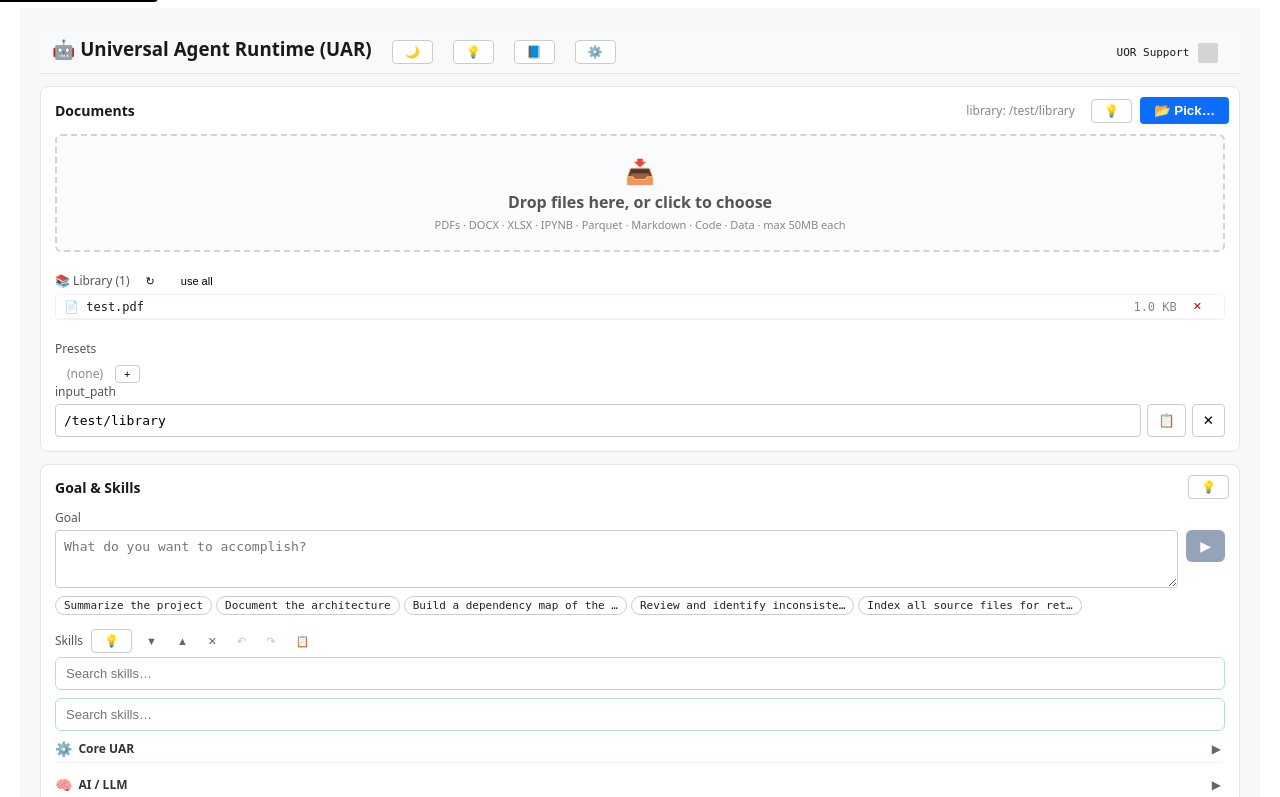
Scenario: UARPanel › Input Path Selection › should update input path when library file is selected
This screenshot has width=1280, height=797.
Click the button "📄 test.pdf". click: [104, 306]
box: [64,300,144,314]
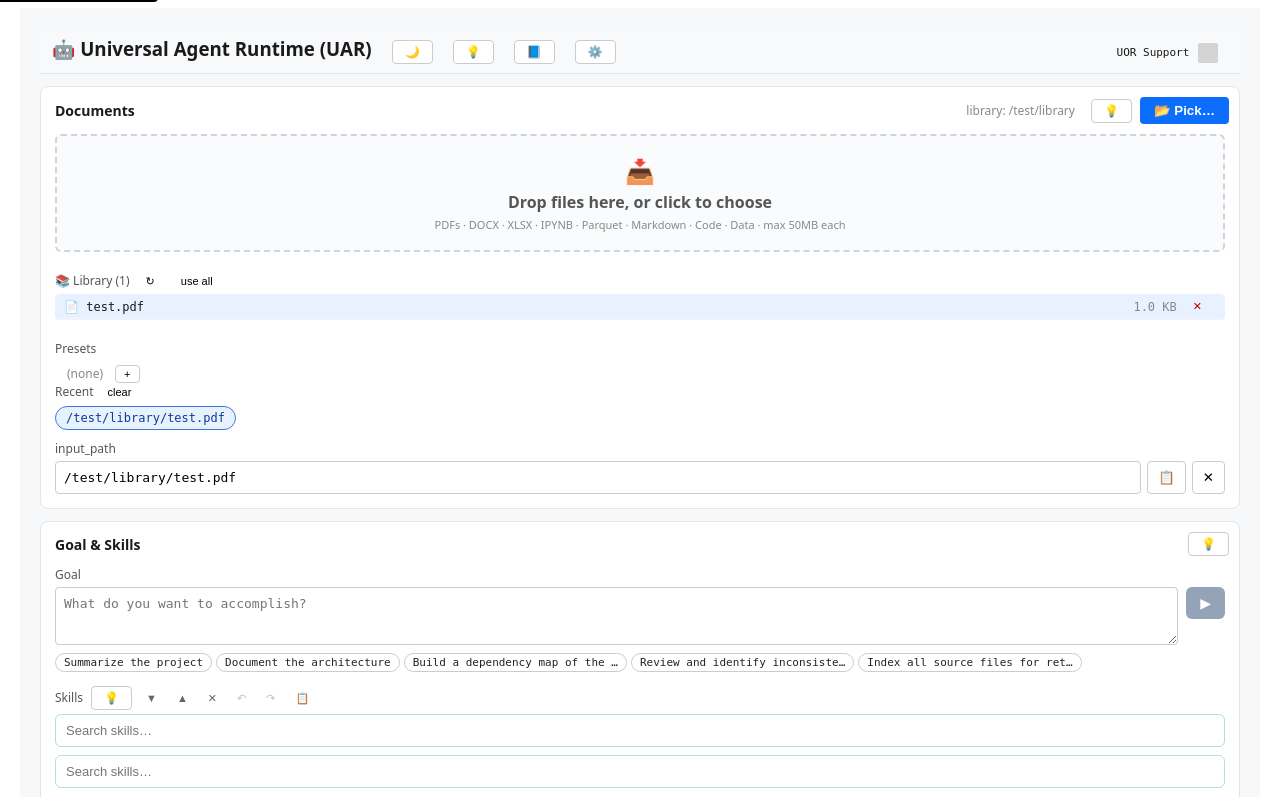
Check: the field showing "/test/library/test.pdf" is shown, box [55,461,1141,494]
